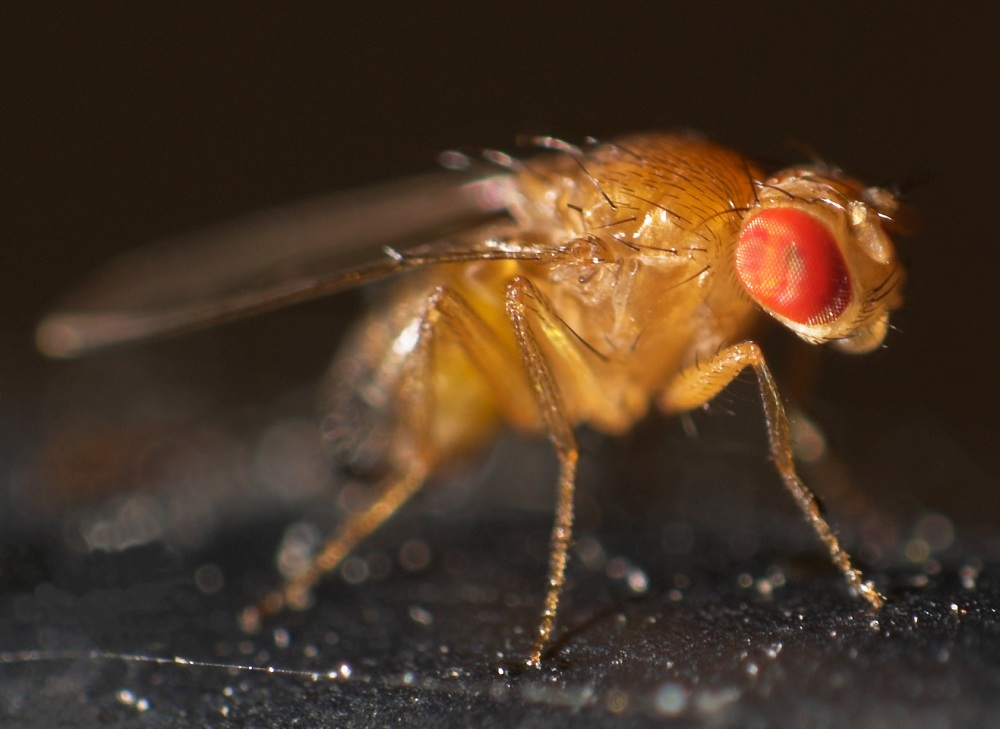Fruit fly: (113, 88, 906, 654)
